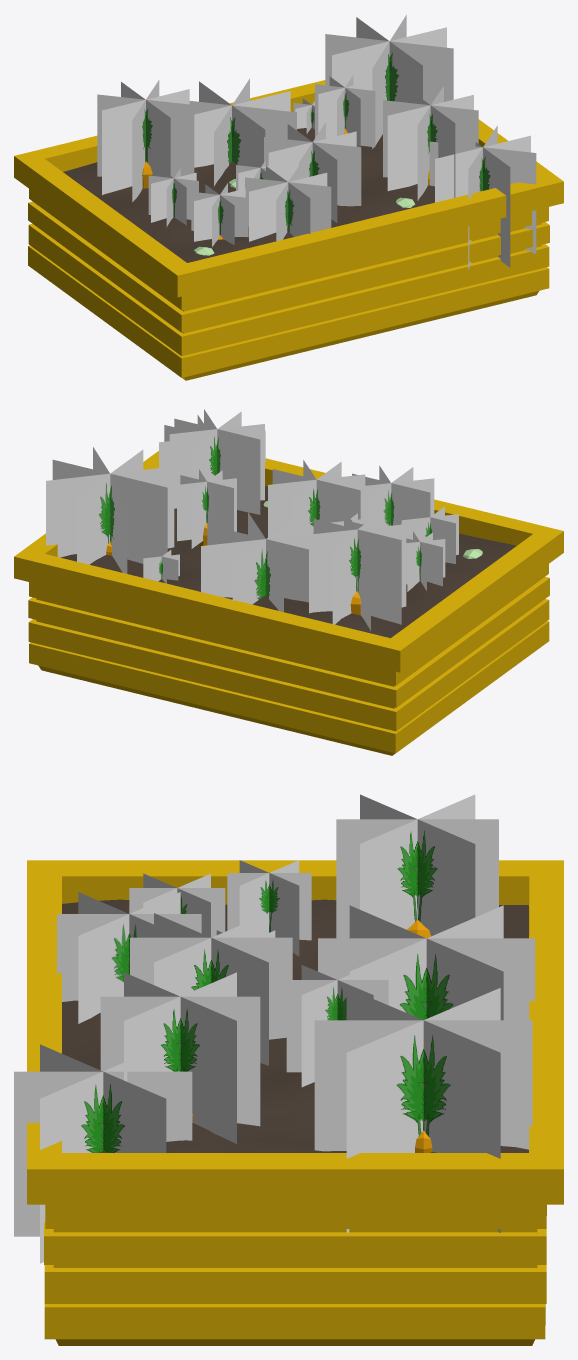
The model's file is MOD_Plantbox.fbx.
3 renders of one model, top to bottom at view 1: azimuth 30°, elevation 25°; view 2: azimuth 150°, elevation 25°; view 3: azimuth 270°, elevation 25°, orthographic. The views are drawn at different scales.
Parts seen in each view (by area): view 1: Plantbox; view 2: Plantbox; view 3: Plantbox.
Boxes of the visible parts, <box> form: Plantbox: <box>14,15,563,380</box>; Plantbox: <box>14,409,563,755</box>; Plantbox: <box>14,794,563,1345</box>.
Size of the model in its own units: 258 by 116 by 192.
Materials: 5 (1 with a texture image).
